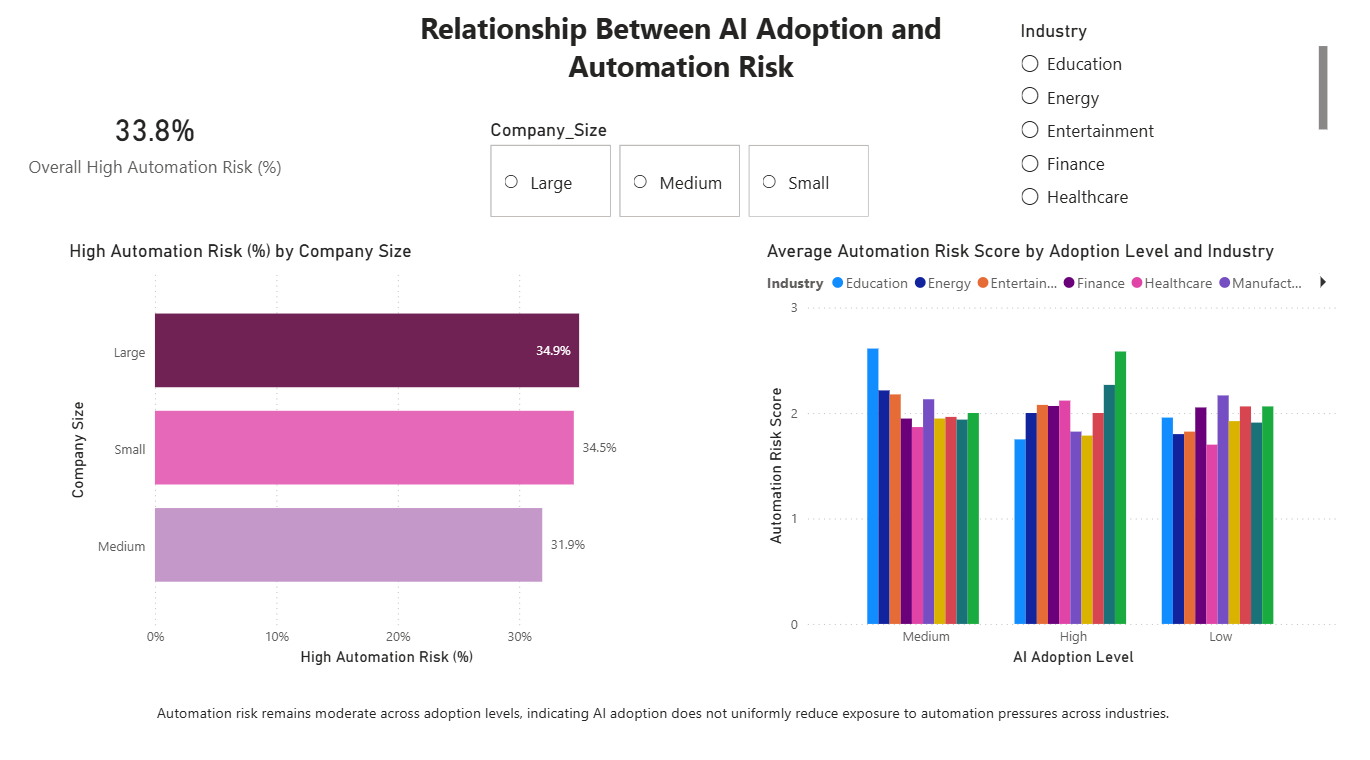

This screenshot's page, from the dashboard's own definition file:
{"tool":"powerbi","page":{"name":"Automation Risk","canvas":[1280,720],"ordinal":1},"visuals":[{"type":"card","fields":{"Values":["ai_job_market_insights.Overall High Automation Risk %"]},"box":[10.5,0,279.1,280.2],"z":0},{"type":"clusteredBarChart","title":"High Automation Risk (%) by Company Size","fields":{"Y":["ai_job_market_insights.High Automation Risk %"],"Category":["ai_job_market_insights.Company_Size"]},"box":[65.5,233.7,532.9,400.6],"z":1000},{"type":"clusteredColumnChart","title":"Average Automation Risk Score by Adoption Level and Industry","fields":{"Category":["ai_job_market_insights.AI_Adoption_Level"],"Y":["Avg(ai_job_market_insights.Automation Risk Score)"],"Series":["ai_job_market_insights.Industry"]},"box":[714,233.7,541.9,400.6],"z":2000},{"type":"advancedSlicerVisual","fields":{"Values":["ai_job_market_insights.Company_Size"]},"box":[457.1,120.7,364.7,96.3],"z":3000},{"type":"listSlicer","fields":{"Values":["ai_job_market_insights.Industry"]},"box":[950.2,29.5,295.3,187.5],"z":4000},{"type":"textbox","box":[146.4,658.8,986.2,61.6],"z":5000},{"type":"textbox","box":[362.1,12.8,554.7,89.9],"z":6000}]}

Visuals, with their boxes in screenshot pixels (x1, y1, x2, y2), scaled from the page's 1280x720 canvas onto the 1370x760 screenshot:
card - ai_job_market_insights.Overall High Automation Risk %: {"left": 11, "top": 0, "right": 310, "bottom": 296}
"High Automation Risk (%) by Company Size" clusteredBarChart: {"left": 70, "top": 247, "right": 640, "bottom": 670}
"Average Automation Risk Score by Adoption Level and Industry" clusteredColumnChart: {"left": 764, "top": 247, "right": 1344, "bottom": 670}
advancedSlicerVisual - ai_job_market_insights.Company_Size: {"left": 489, "top": 127, "right": 880, "bottom": 229}
listSlicer - ai_job_market_insights.Industry: {"left": 1017, "top": 31, "right": 1333, "bottom": 229}
textbox: {"left": 157, "top": 695, "right": 1212, "bottom": 759}
textbox: {"left": 388, "top": 14, "right": 981, "bottom": 108}
